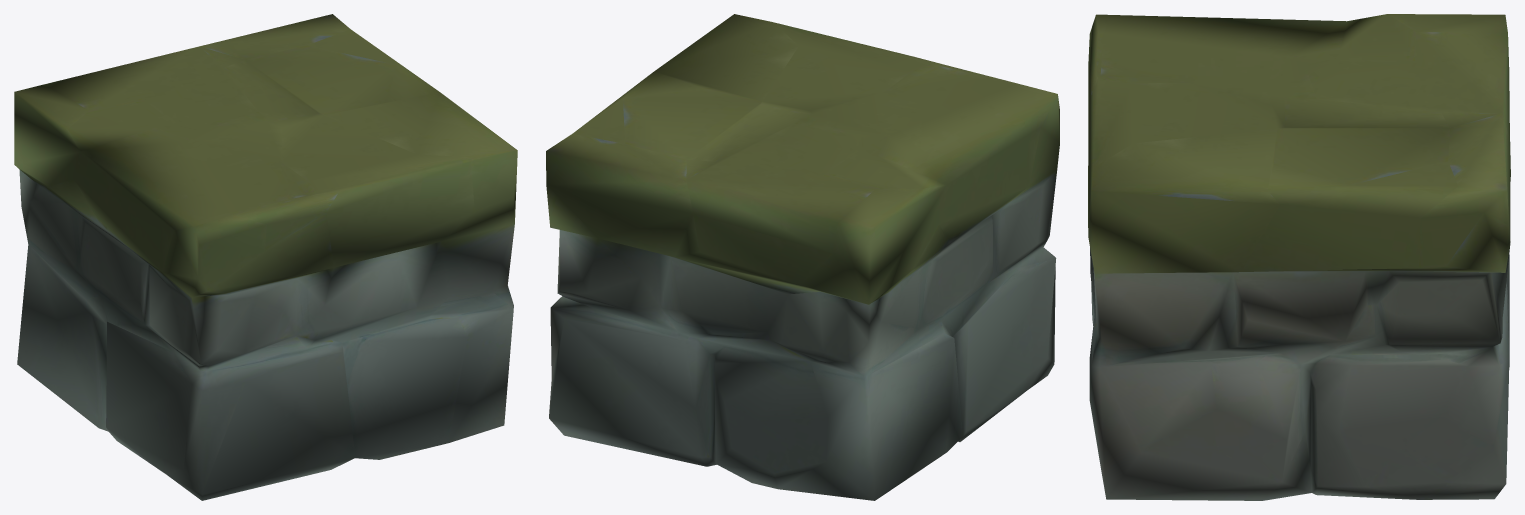
File: grass_v7_orm.med.glb
The picture shows the model from 3 angles, left to right: view 1: azimuth 30°, elevation 25°; view 2: azimuth 150°, elevation 25°; view 3: azimuth 270°, elevation 25°; orthographic projection. The views are drawn at different scales.
Visible parts, largest first — view 1: tripo_node_4502d38e-2dda-4b25-8010-c4ac6b404b5c; view 2: tripo_node_4502d38e-2dda-4b25-8010-c4ac6b404b5c; view 3: tripo_node_4502d38e-2dda-4b25-8010-c4ac6b404b5c.
Part boxes in pixels (x1,y1,x2,y2): tripo_node_4502d38e-2dda-4b25-8010-c4ac6b404b5c: [14, 14, 517, 500]; tripo_node_4502d38e-2dda-4b25-8010-c4ac6b404b5c: [546, 14, 1059, 500]; tripo_node_4502d38e-2dda-4b25-8010-c4ac6b404b5c: [1088, 14, 1510, 500].
Size of the model in its own units: 0.9951 by 0.8371 by 0.9981.
1 material, 1 textured.
